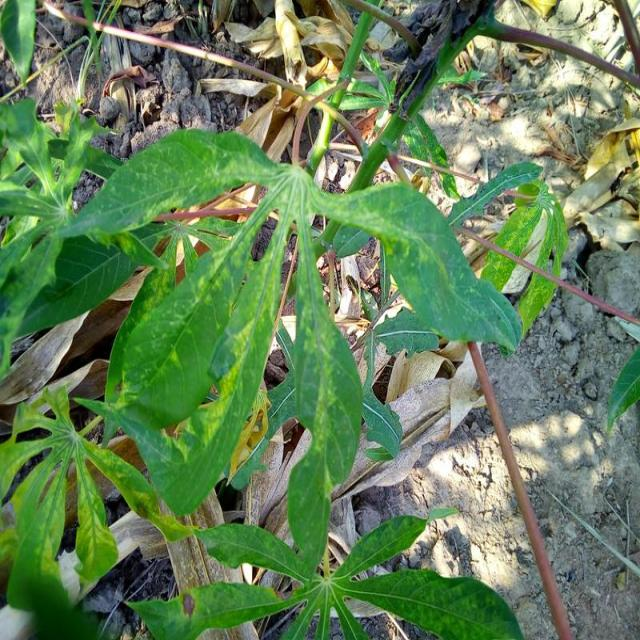cassava leaf: (104, 202, 292, 516), (313, 178, 525, 355)
